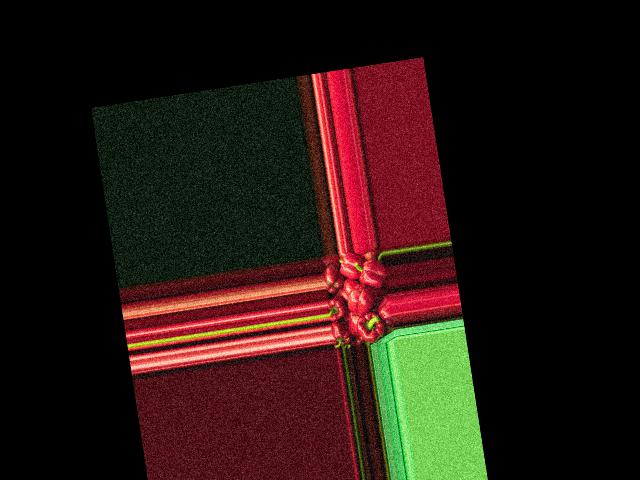bell_pepper: (330, 320, 352, 348)
